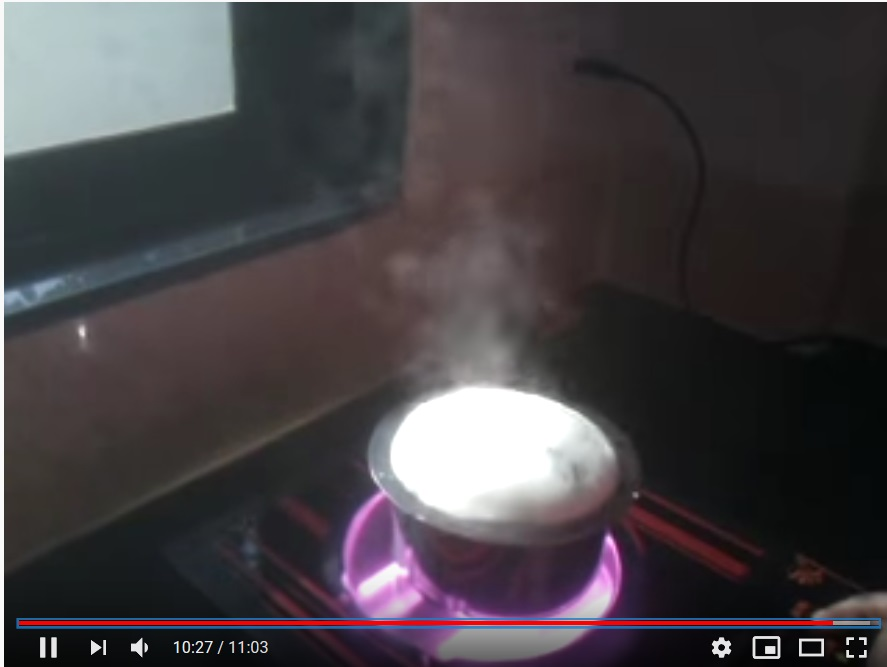Boiled: (362, 369, 636, 618)
